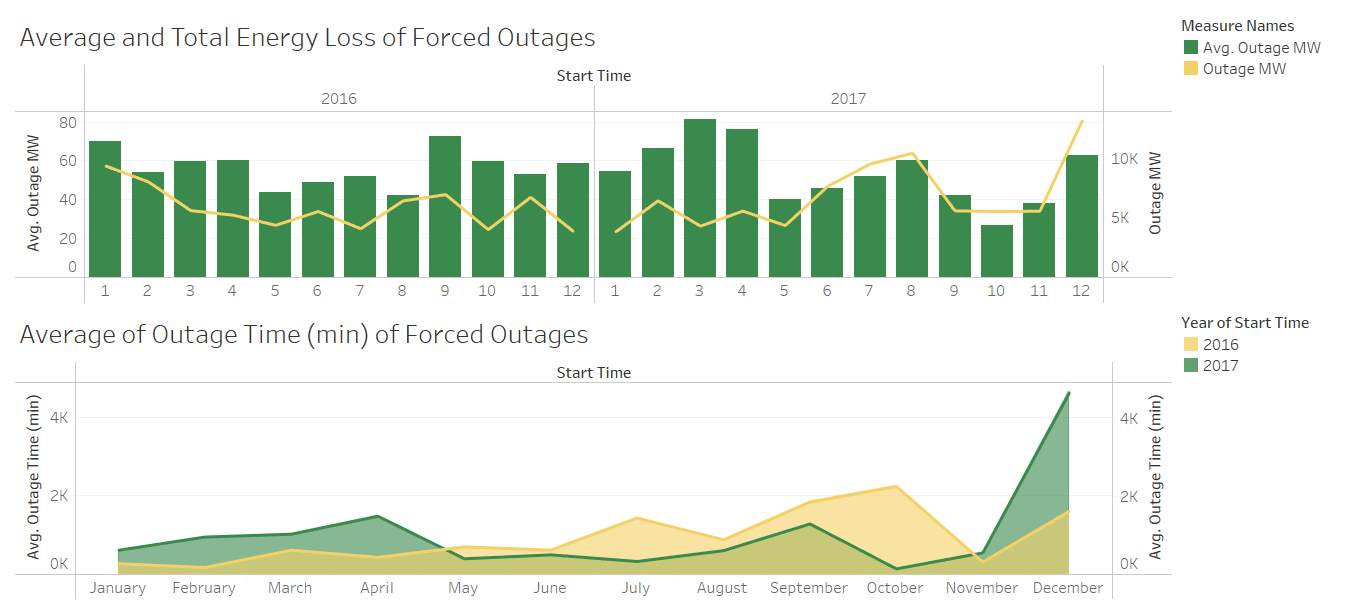

The page's visual inventory and layout, read from the dashboard file:
{"tool":"tableau","page":{"name":"Forced Outages","canvas":[1000,1000],"units":"permille","ordinal":1},"visuals":[{"type":"worksheet","title":"Average and Total Energy Loss of Forced Outages","mark":"Bar","rows":["Outage_MW","Outage_MW"],"cols":["Start_Time","Start_Time"],"box":[6.3,14.1,855.4,486.8]},{"type":"legend","title":"Average and Total Energy Loss of Forced Outages","param":"[federated.1tv6ulq1fnpj2y120luwg15yobnx].[:Measure Names]","box":[861.6,14.1,132.1,486.8]},{"type":"worksheet","title":"Average of Outage Time (min) of Forced Outages","mark":"Area","rows":["Calculation_789818849608769575","Calculation_789818849608769575"],"cols":["Start_Time"],"box":[6.3,500.9,855.4,485]},{"type":"legend","title":"Average of Outage Time (min) of Forced Outages","param":"[federated.1tv6ulq1fnpj2y120luwg15yobnx].[yr:Start_Time:ok]","box":[861.6,500.9,132.1,485]}]}

Visuals, with their boxes on the dashboard's canvas, which has no fixed pixel size, in thousandths of its width and height (x1, y1, x2, y2). These are canvas units, not pixel positions in the 1356x608 screenshot, which may show the page scaled, cropped or inside an application window:
"Average and Total Energy Loss of Forced Outages" worksheet (Bar marks): <bbox>6, 14, 862, 501</bbox>
"Average and Total Energy Loss of Forced Outages" legend: <bbox>862, 14, 994, 501</bbox>
"Average of Outage Time (min) of Forced Outages" worksheet (Area marks): <bbox>6, 501, 862, 986</bbox>
"Average of Outage Time (min) of Forced Outages" legend: <bbox>862, 501, 994, 986</bbox>
